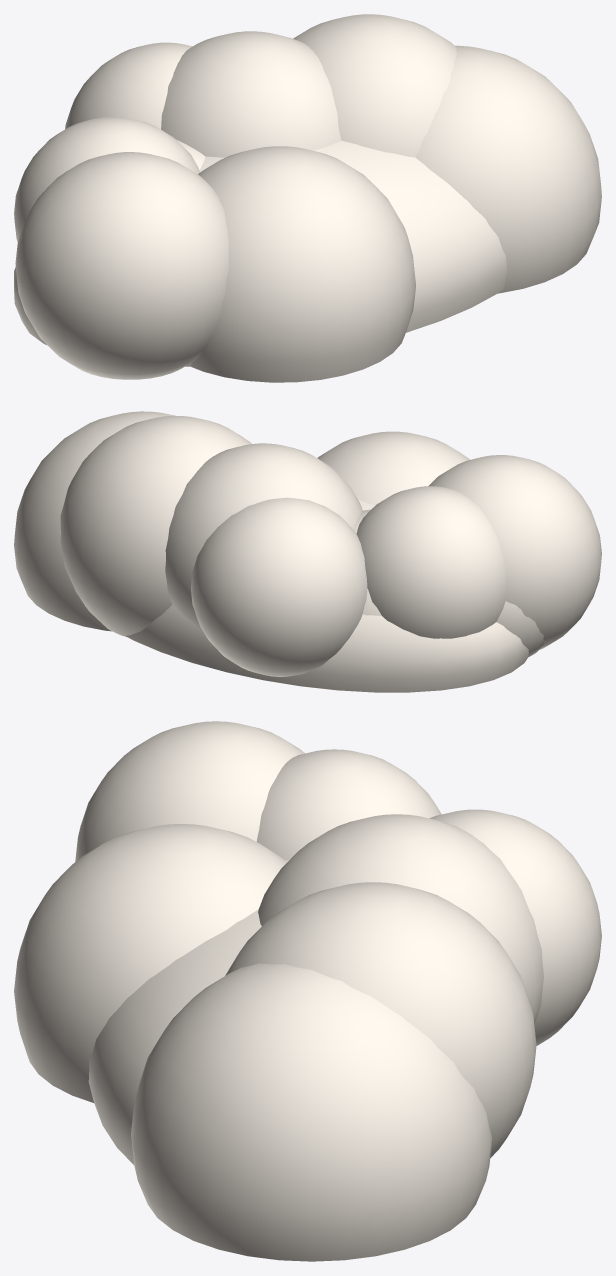
The model's file is cloud.glb.
3 views of the same model, one above another, from view 1: azimuth 30°, elevation 25°; view 2: azimuth 150°, elevation 25°; view 3: azimuth 270°, elevation 25° (orthographic). The views are drawn at different scales.
Visible parts, largest first — view 1: cloud; view 2: cloud; view 3: cloud.
Part boxes in pixels (box(x1,y1,x2,y2)): cloud: box(14, 14, 601, 382); cloud: box(14, 411, 601, 692); cloud: box(14, 721, 601, 1261).
Bounding box in the file's own units: 15.09 × 5.19 × 10.58.
Materials: 1 (1 with a texture image).
